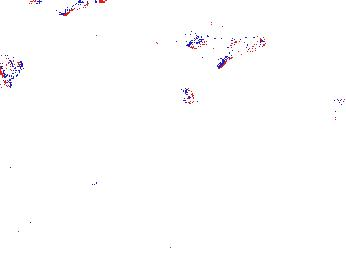X-ray fish: (123, 24, 165, 73), (1, 50, 26, 85)
red belly glassfish: (327, 94, 346, 117), (180, 86, 197, 107)
redtail glassfish: (186, 33, 267, 69), (35, 1, 103, 14)
